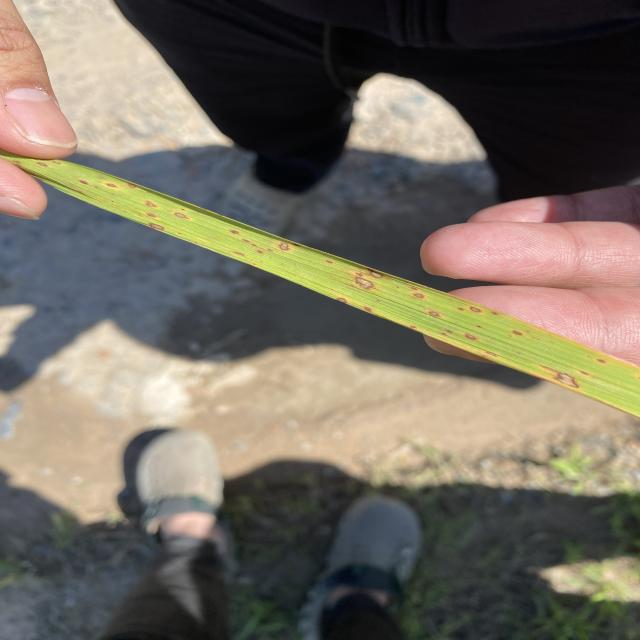Dom nau: (549, 369, 579, 388), (355, 277, 373, 290), (174, 212, 191, 220), (149, 223, 164, 230), (232, 251, 246, 257), (428, 310, 440, 317), (465, 333, 477, 340), (469, 307, 481, 313), (511, 330, 523, 336), (279, 243, 289, 250), (486, 351, 497, 357), (336, 297, 346, 303), (372, 272, 382, 278), (37, 162, 48, 167), (146, 213, 157, 218), (413, 293, 424, 298), (106, 183, 116, 188), (145, 203, 156, 207), (364, 307, 372, 312), (79, 180, 88, 184), (242, 239, 251, 243), (596, 359, 605, 363), (231, 230, 239, 234), (292, 243, 300, 247), (356, 273, 364, 277), (580, 371, 588, 375), (129, 184, 136, 188), (257, 250, 264, 254), (52, 161, 60, 164), (410, 287, 418, 290), (267, 249, 274, 252), (410, 325, 417, 328), (457, 307, 464, 310), (446, 330, 452, 333), (492, 312, 498, 315), (326, 261, 333, 263), (477, 325, 481, 328), (252, 244, 257, 246), (441, 333, 446, 335), (182, 209, 185, 211), (426, 329, 429, 331)
